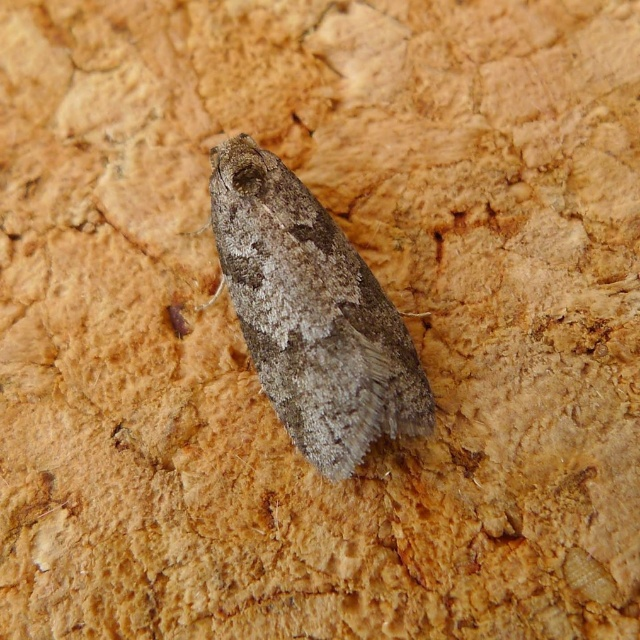Moths and butterflies: (193, 128, 450, 476)
